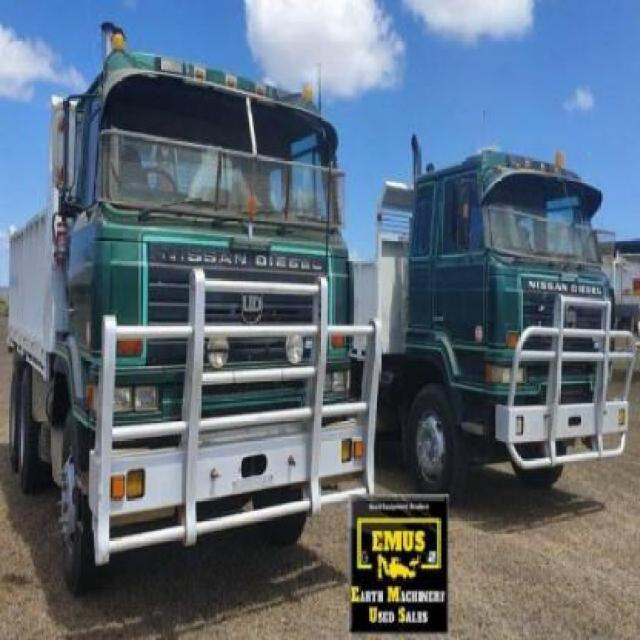dump_truck: (4, 19, 381, 602), (354, 129, 636, 501)
